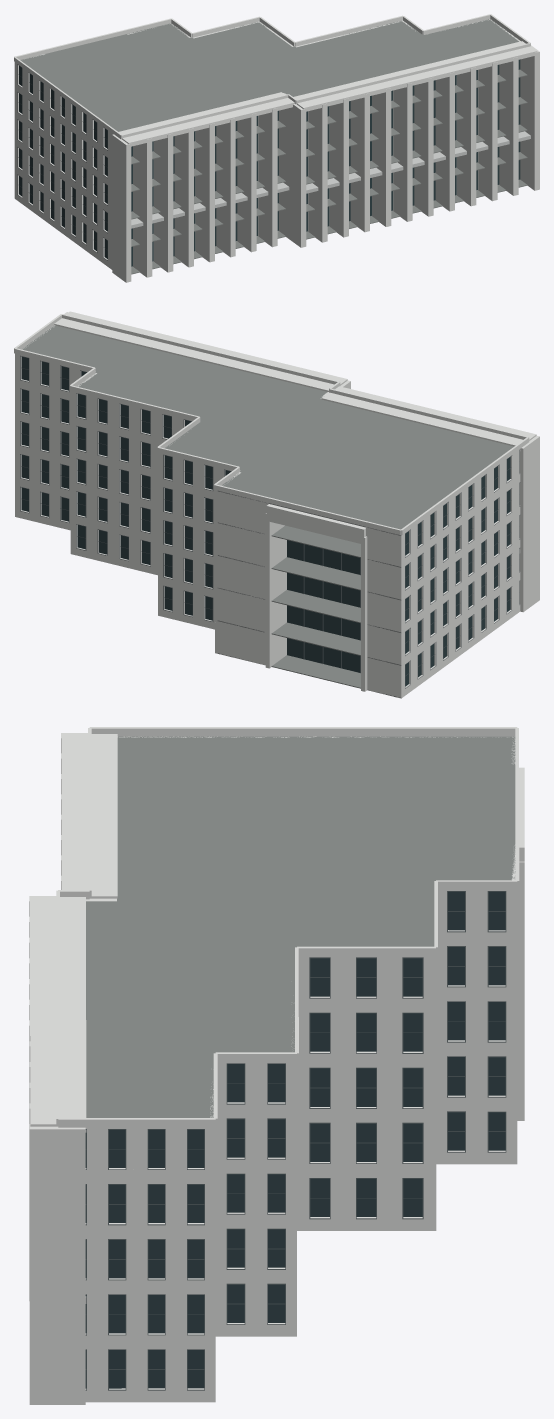
3 renders of one model, top to bottom at view 1: azimuth 30°, elevation 25°; view 2: azimuth 150°, elevation 25°; view 3: azimuth 270°, elevation 25°, orthographic. The views are drawn at different scales.
Parts seen in each view (by area): view 1: cjLaw__stone, cjLaw__roof, cjLaw__glass, cjLaw__light, cjLaw__frame; view 2: cjLaw__stone, cjLaw__roof, cjLaw__glass, cjLaw__frame; view 3: cjLaw__stone, cjLaw__roof, cjLaw__glass, cjLaw__frame.
Boxes of the visible parts, x1,y1,x2,y2 form: cjLaw__stone: (14, 14, 539, 282); cjLaw__roof: (20, 19, 527, 274); cjLaw__glass: (19, 59, 520, 266); cjLaw__light: (131, 131, 530, 228); cjLaw__frame: (17, 64, 107, 260); cjLaw__stone: (14, 311, 539, 698); cjLaw__roof: (21, 325, 513, 698); cjLaw__glass: (21, 356, 510, 686); cjLaw__frame: (20, 355, 520, 688); cjLaw__stone: (29, 727, 524, 1404); cjLaw__roof: (86, 736, 515, 1117); cjLaw__glass: (85, 891, 505, 1388); cjLaw__frame: (85, 891, 506, 1390).
Size of the model in its own units: 70.29 by 23.45 by 37.14.
